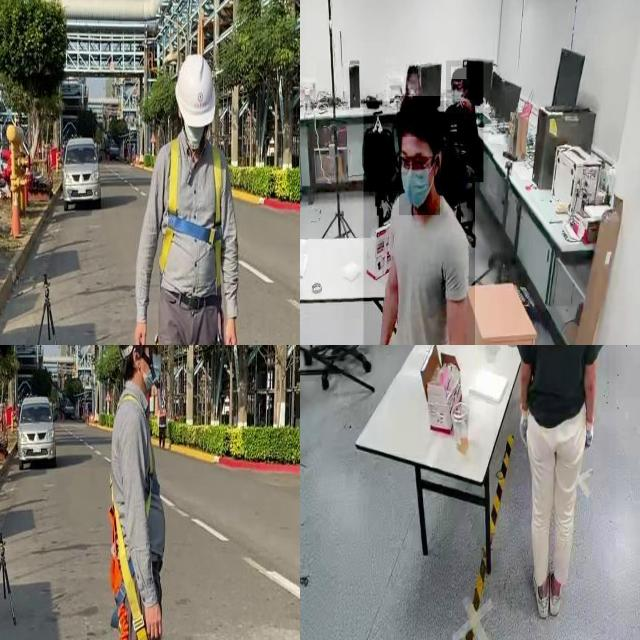Harness: (161, 138, 223, 288), (109, 504, 149, 640)
face_mask: (399, 157, 440, 215), (453, 81, 467, 110)
face_nomask: (408, 79, 418, 96)
head_nohelmet: (396, 96, 444, 138), (451, 67, 467, 80), (406, 64, 418, 75)
person: (508, 345, 615, 635), (363, 101, 475, 345), (446, 61, 484, 183)
shoes: (530, 559, 550, 620), (546, 567, 566, 618)
